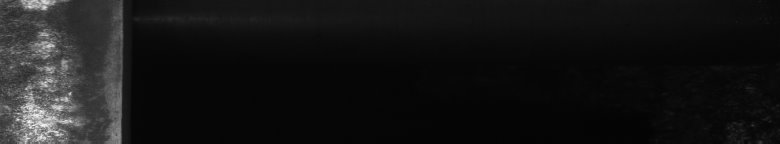kb: (4, 4, 85, 136)
